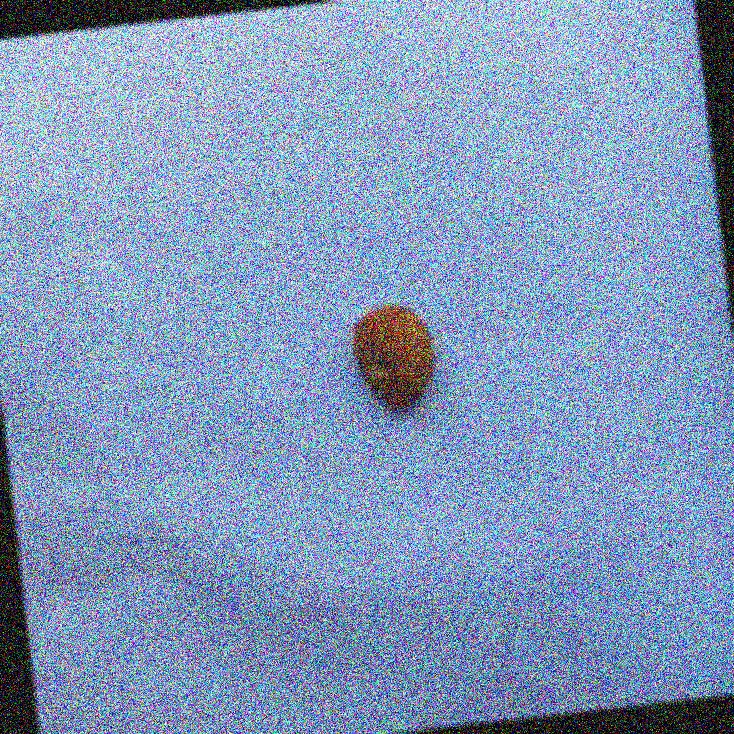grade3: (344, 296, 442, 418)
